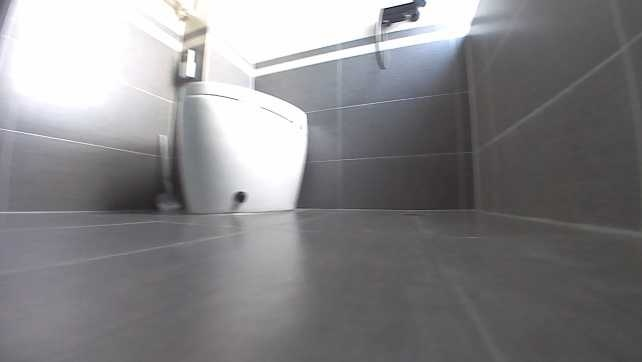toilet: (168, 79, 308, 213)
